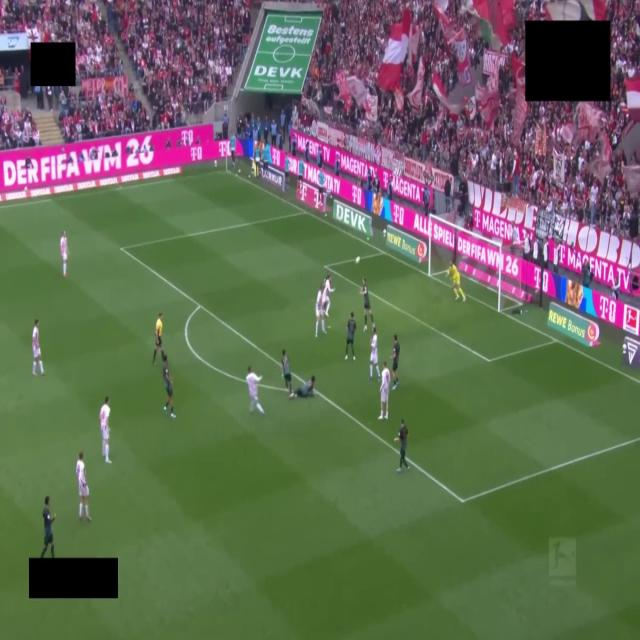ball: (355, 256, 361, 264)
player: (76, 451, 90, 520), (40, 496, 55, 559), (246, 367, 264, 415), (162, 352, 175, 417), (395, 419, 409, 471), (360, 279, 374, 330), (447, 262, 465, 301), (100, 396, 110, 463), (32, 320, 44, 375), (379, 362, 390, 419), (290, 376, 315, 399), (315, 286, 326, 337), (370, 328, 380, 380), (345, 312, 356, 359), (323, 272, 334, 317), (281, 350, 292, 393), (392, 335, 399, 389), (60, 231, 68, 277)
referee: (153, 313, 163, 363)
